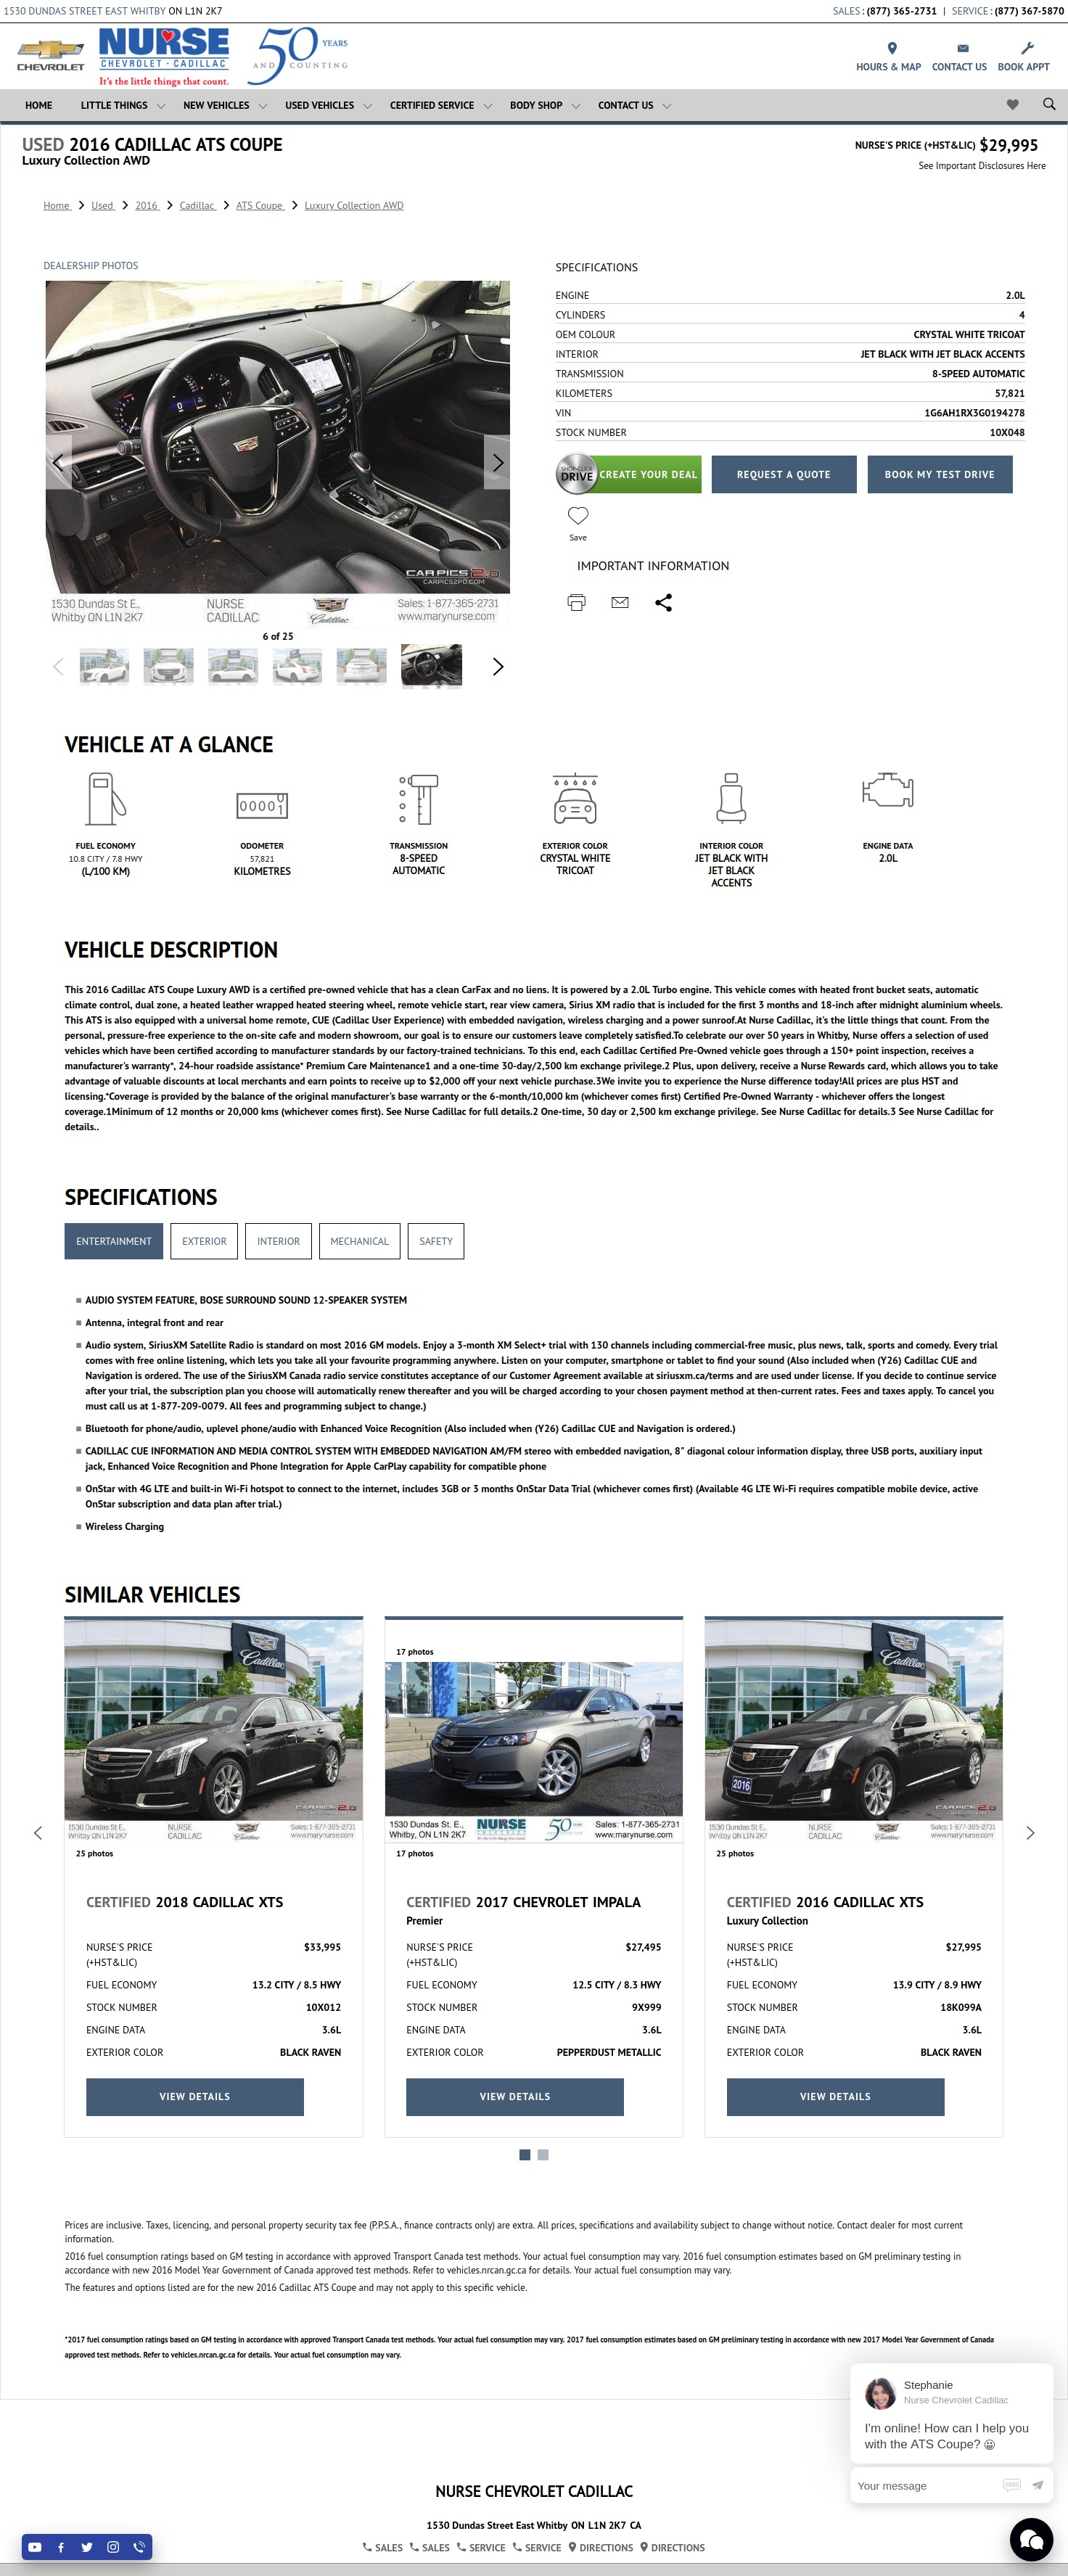car: (491, 657, 506, 677)
